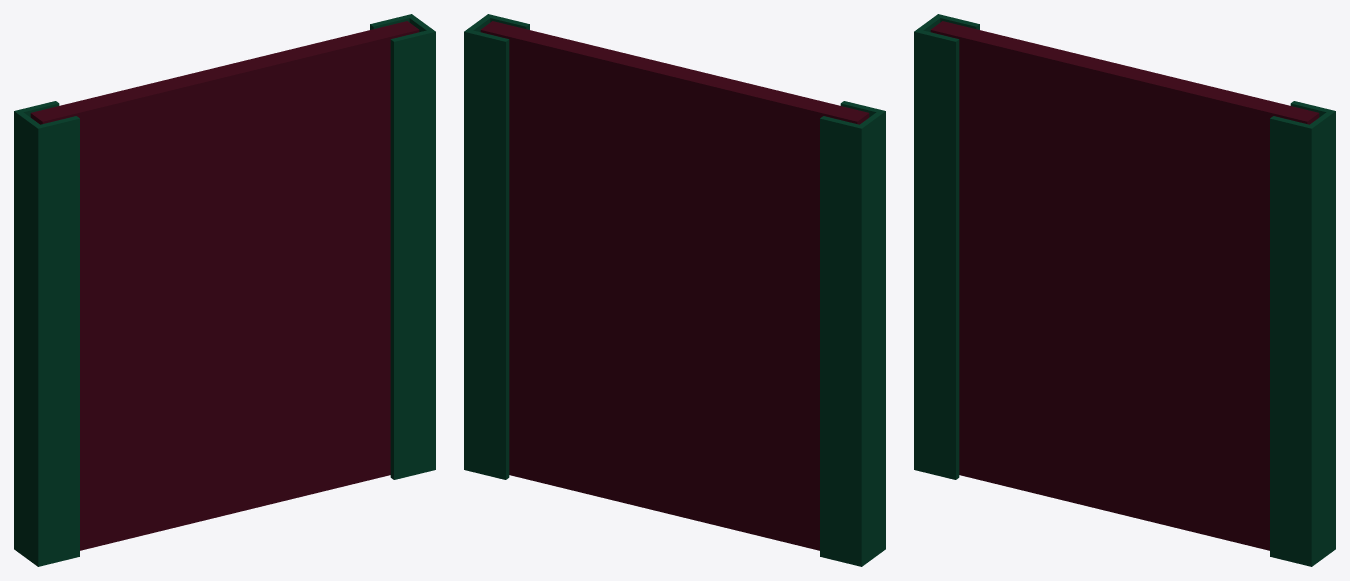
Rendered from Shutter_Door_low.fbx.
3 views of the same model, side by side, from view 1: azimuth 30°, elevation 25°; view 2: azimuth 150°, elevation 25°; view 3: azimuth 330°, elevation 25° (orthographic).
Parts seen in each view (by area): view 1: Shutter_Door_low, Shutter_Door_Side_low; view 2: Shutter_Door_low, Shutter_Door_Side_low; view 3: Shutter_Door_low, Shutter_Door_Side_low.
Part boxes in pixels (left/top/right/bottom): Shutter_Door_low: left=30, top=21, right=419, bottom=550; Shutter_Door_Side_low: left=14, top=14, right=435, bottom=566; Shutter_Door_low: left=480, top=21, right=869, bottom=550; Shutter_Door_Side_low: left=464, top=14, right=885, bottom=566; Shutter_Door_low: left=930, top=21, right=1319, bottom=550; Shutter_Door_Side_low: left=914, top=14, right=1335, bottom=566.
Bounding box in the file's own units: 190 × 200 × 20.
